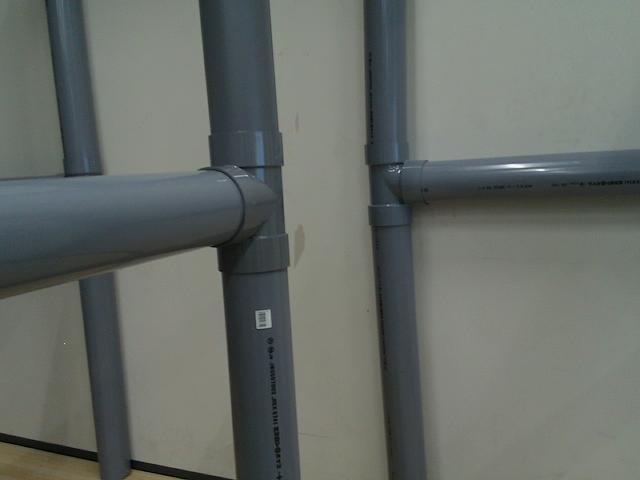junction: (199, 129, 290, 275), (364, 140, 431, 228)
